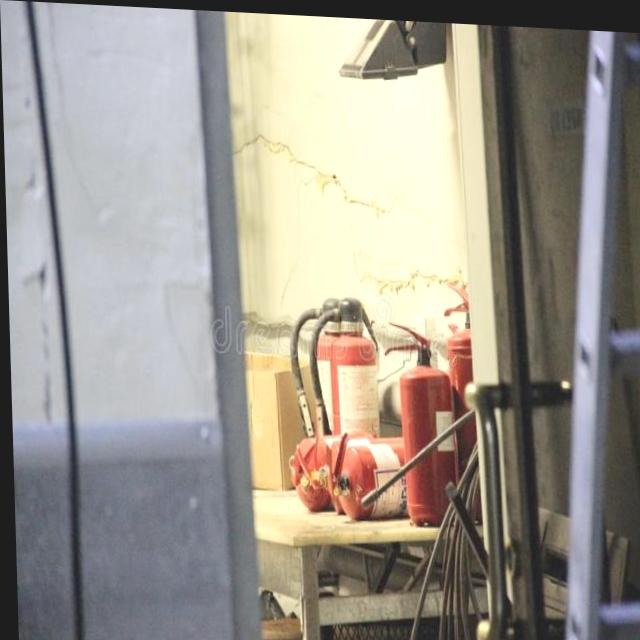FireExtinguisher: (300, 283, 393, 532), (283, 424, 492, 523), (320, 418, 505, 525), (433, 273, 506, 521), (378, 312, 454, 527)
